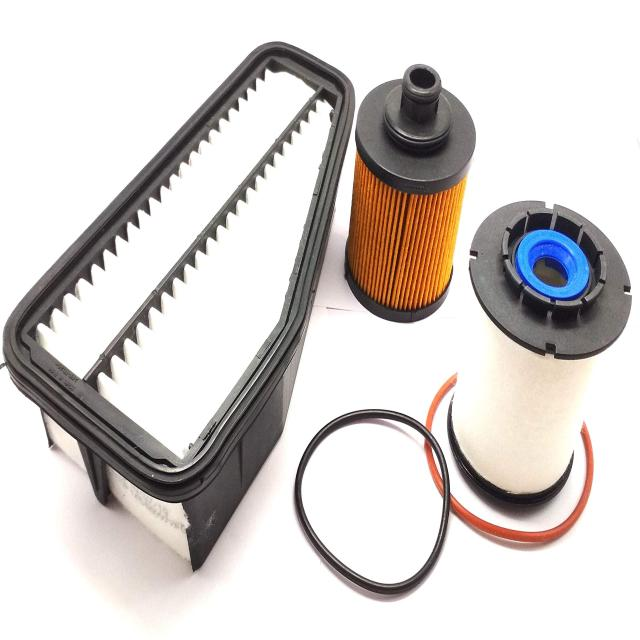air_filter: (0, 40, 352, 574)
oil_filter: (453, 194, 633, 512), (354, 61, 478, 324)
